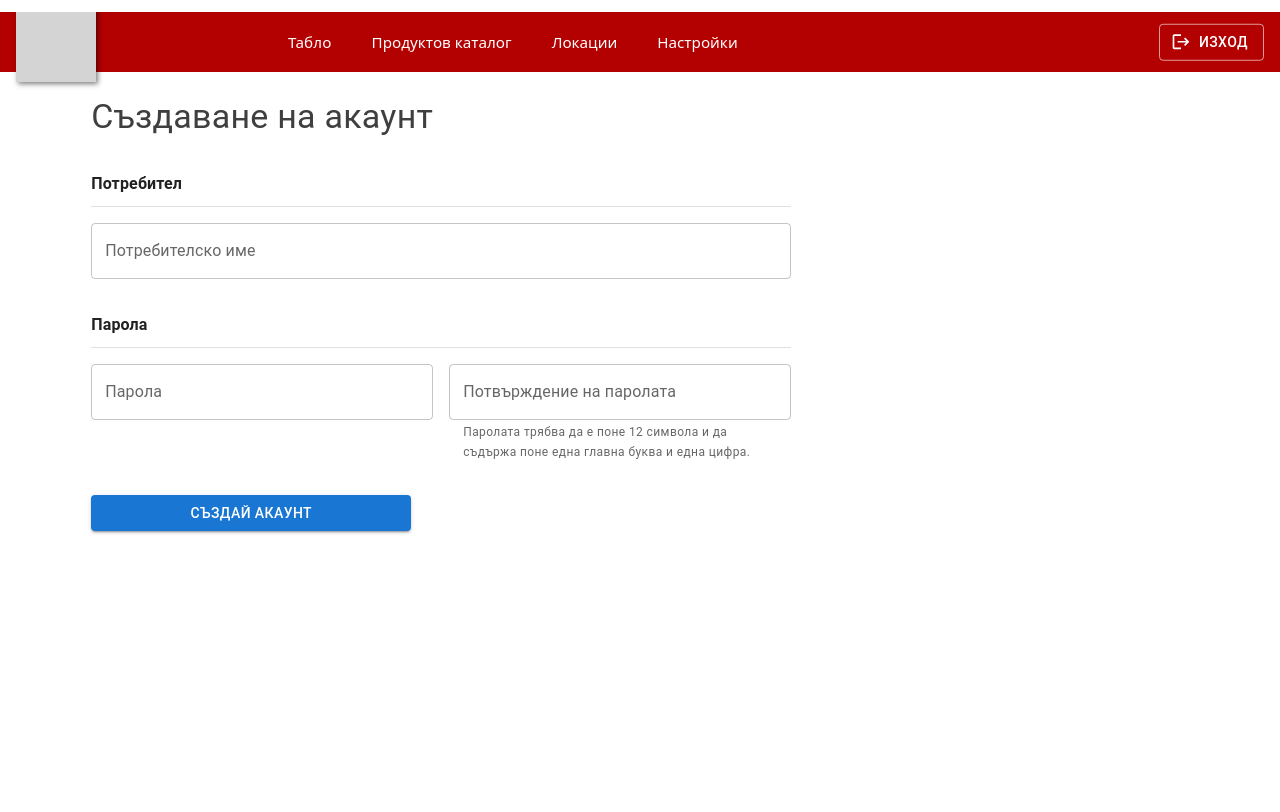
Scenario: Create account page › surfaces a duplicate-username error when the API responds with 409
The image size is (1280, 812).
Step 1. Type "ana" into the field labelled "Потребителско име" → (441, 251), box [91,223,791,279]
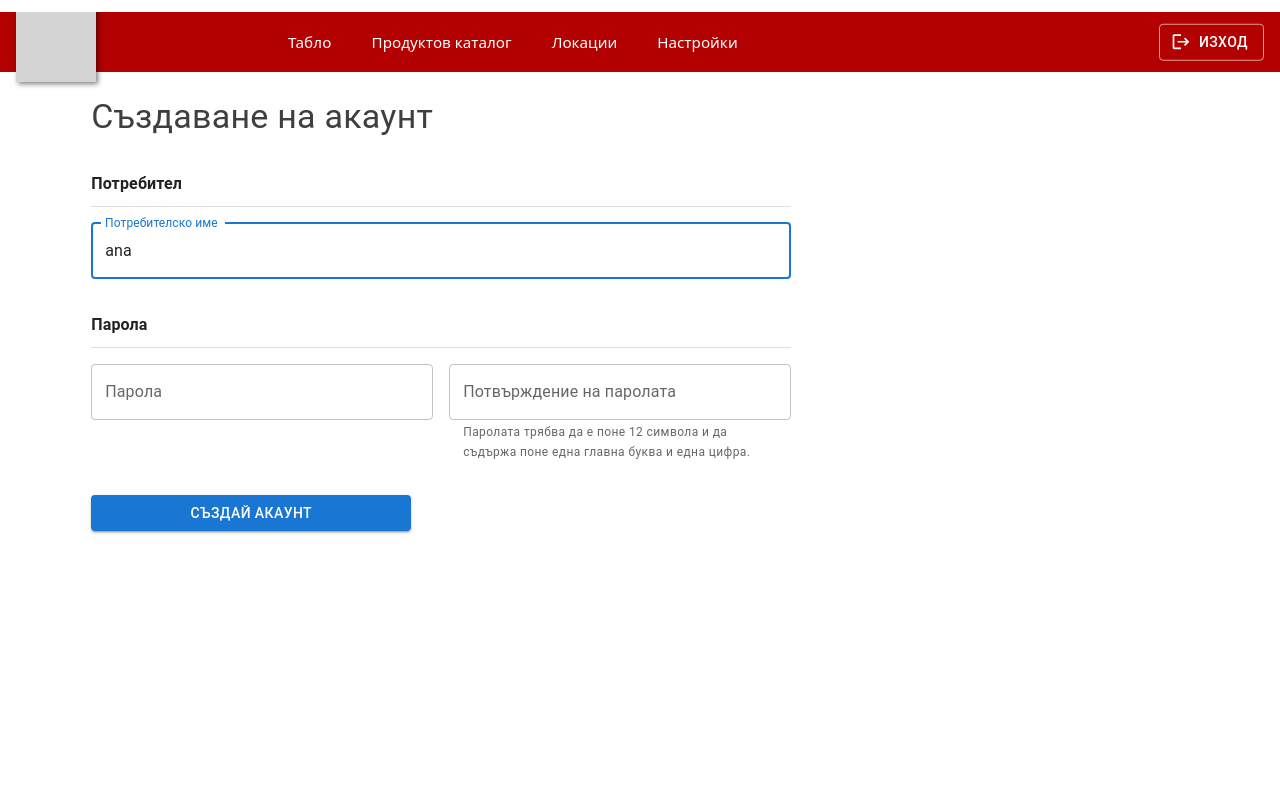
Step 2. Type "Password1234" into the password field labelled "Парола" → (262, 392), box [91,364,433,420]
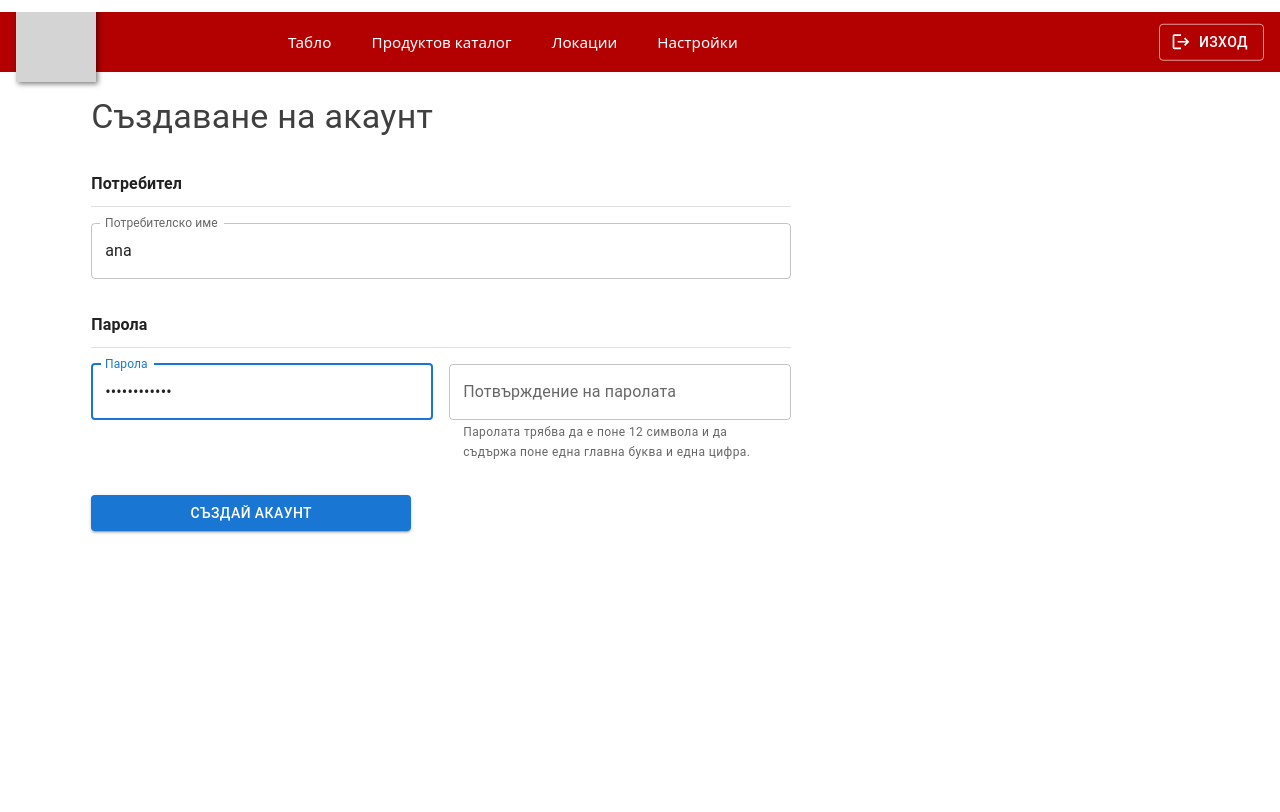
Step 3. Type "Password1234" into the password field labelled "Потвърждение на паролата" → (620, 392), box [449,364,791,420]
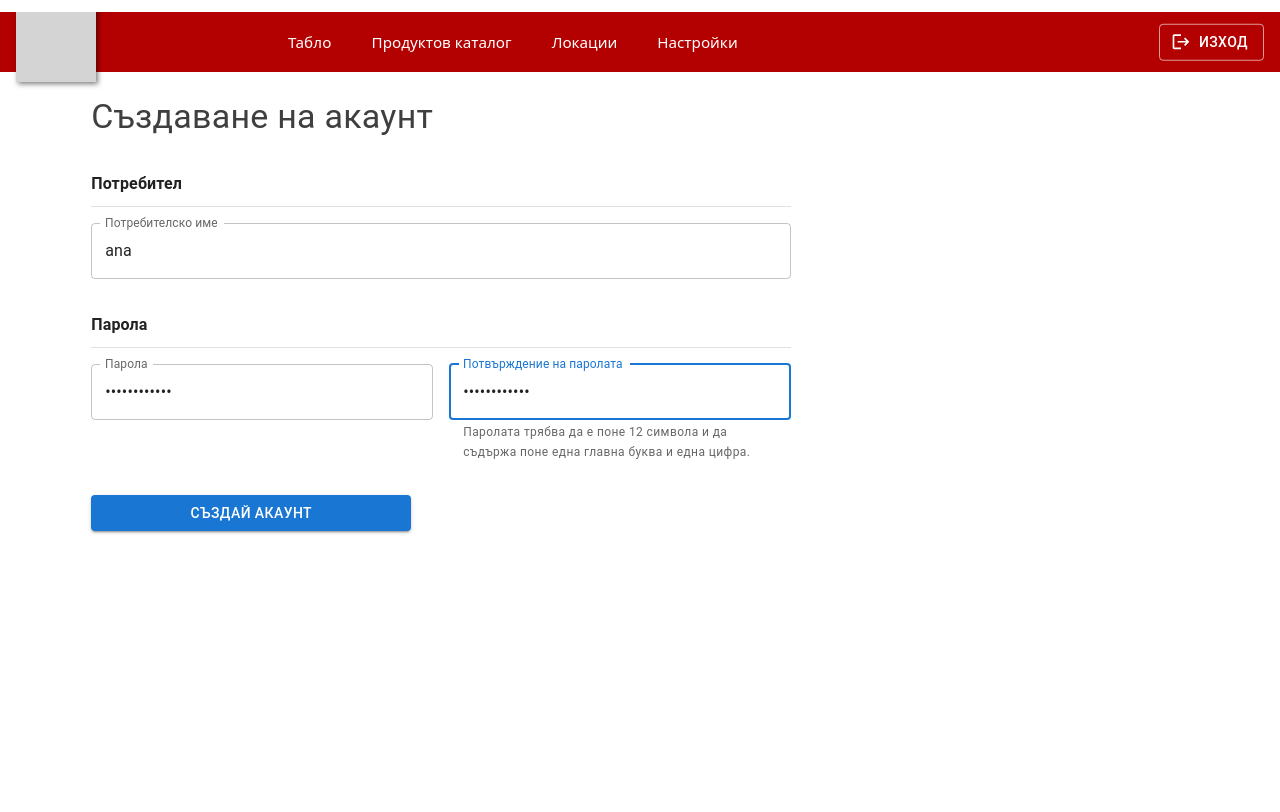
Step 4. Click the button "Създай акаунт" → (251, 513), box [91,495,411,531]
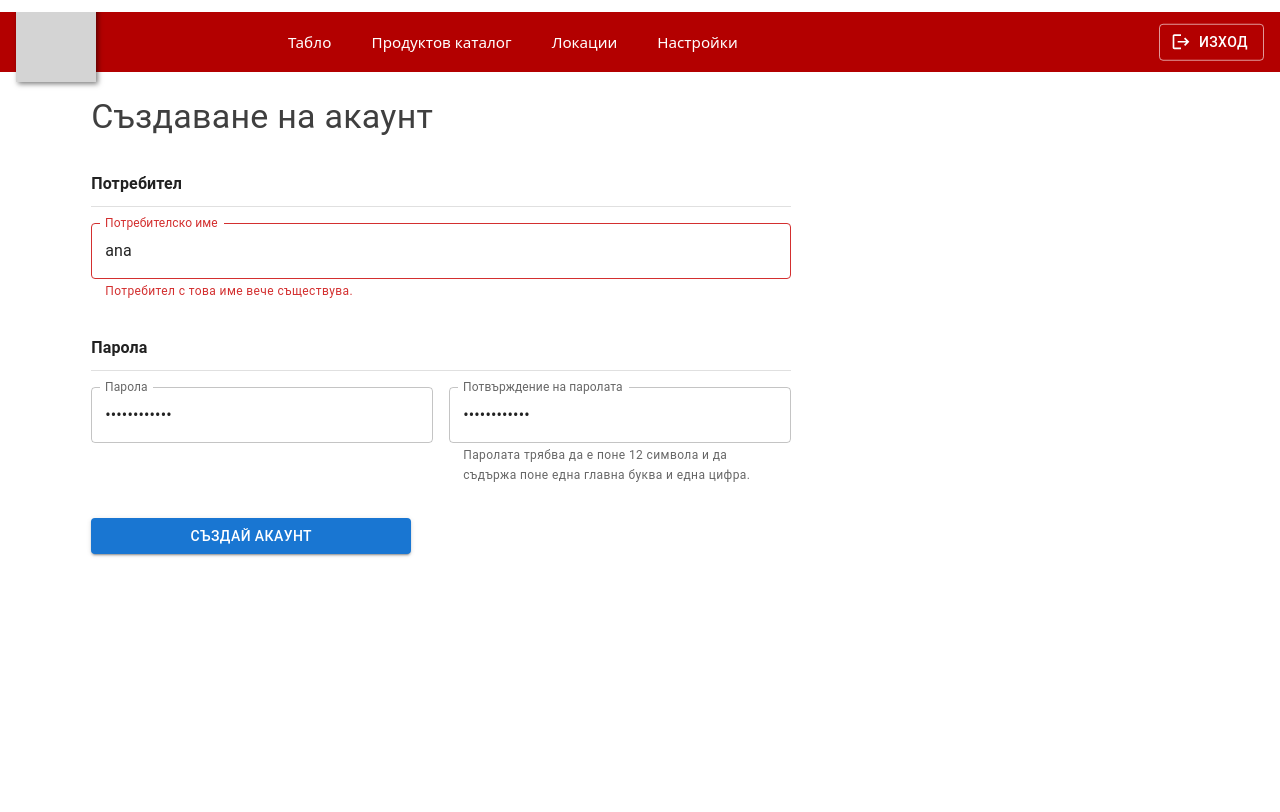
Expected: the text "Потребител с това име вече съществува." is shown, [105,284,353,298]
